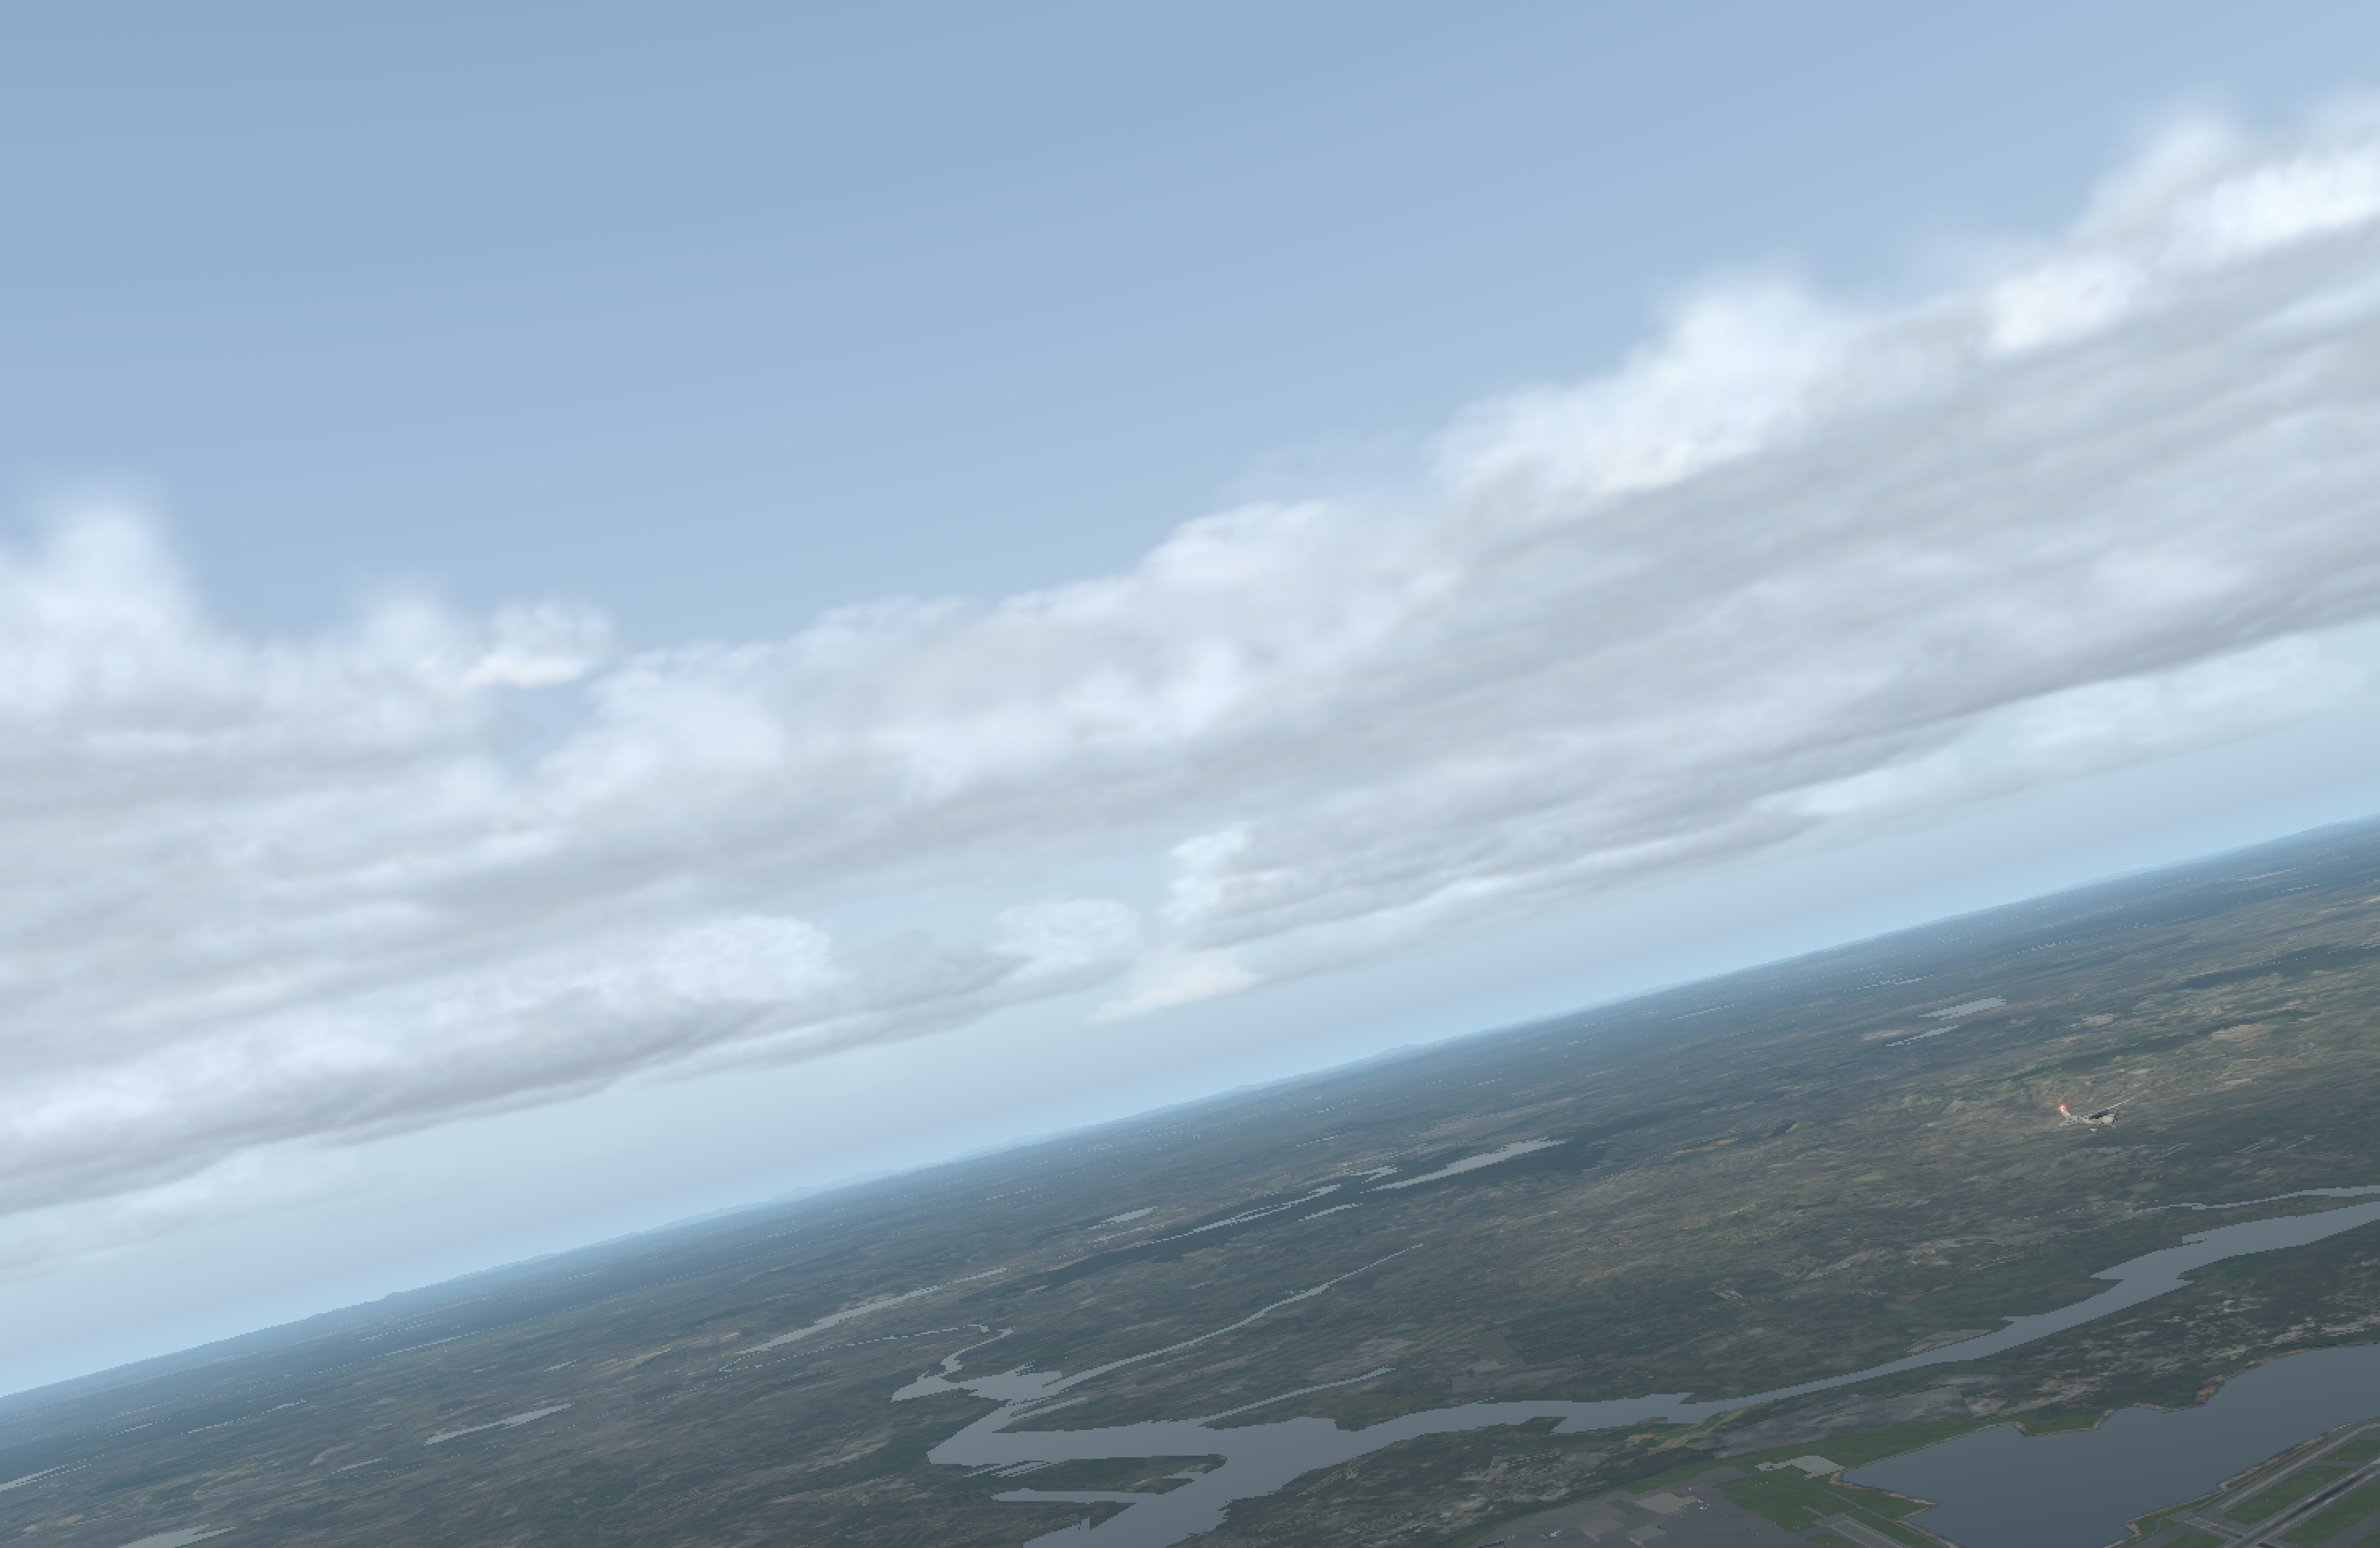aircraft: (2069, 1105, 2134, 1130)
